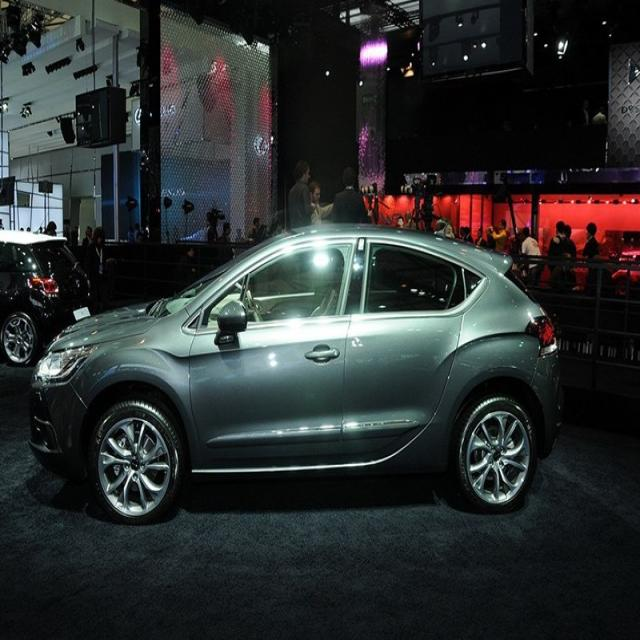back_right_side_light: (526, 310, 558, 360)
door: (340, 237, 468, 459)
front_bumper: (30, 384, 86, 464)
front_left_side_door: (187, 236, 358, 464)
front_left_side_light: (35, 342, 93, 386)
front_left_side_mirror: (214, 297, 248, 344)
wheel: (90, 402, 180, 525), (458, 394, 535, 511)
